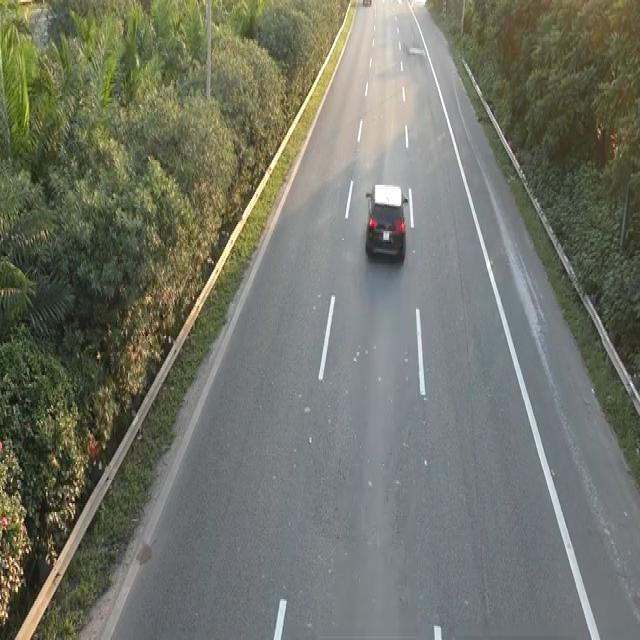car: (363, 180, 409, 263)
